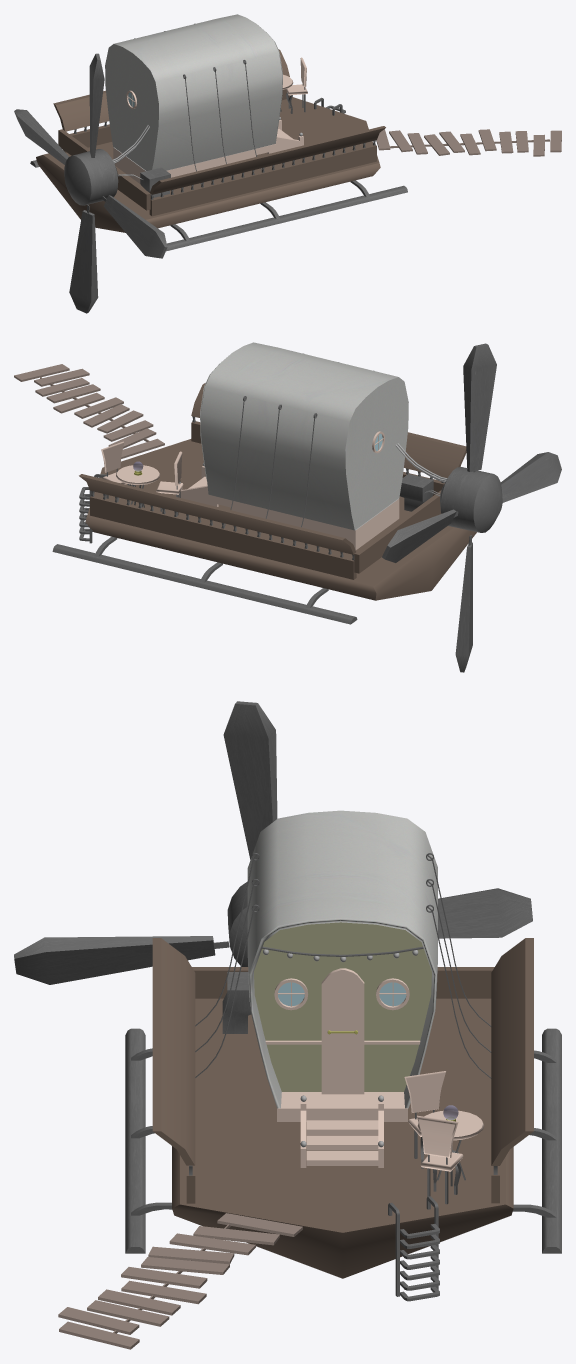
Rendered from Env_Harbor_FortuneTeller.fbx.
3 renders of one model, top to bottom at view 1: azimuth 30°, elevation 25°; view 2: azimuth 150°, elevation 25°; view 3: azimuth 270°, elevation 25°, orthographic. The views are drawn at different scales.
Visible parts, largest first — view 1: pCube127; view 2: pCube127; view 3: pCube127.
Boxes of the visible parts, left/top/right/bottom form: pCube127: left=14, top=14, right=561, bottom=313; pCube127: left=14, top=342, right=561, bottom=672; pCube127: left=14, top=701, right=561, bottom=1349.
Size of the model in its own units: 4955 by 2792 by 2952.
